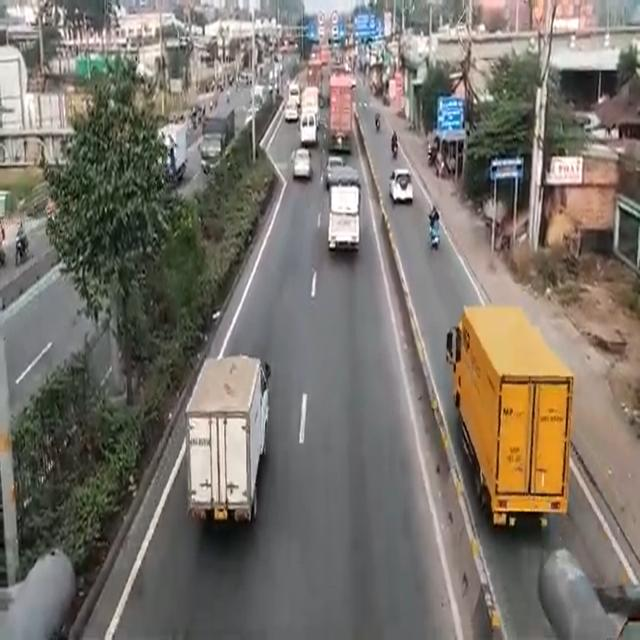bus: (300, 81, 318, 118)
car: (390, 169, 413, 207), (294, 145, 310, 181), (285, 98, 296, 122)
motor: (427, 204, 443, 253)
truck: (445, 303, 571, 534), (188, 346, 264, 535), (328, 74, 356, 153), (202, 112, 230, 158)
